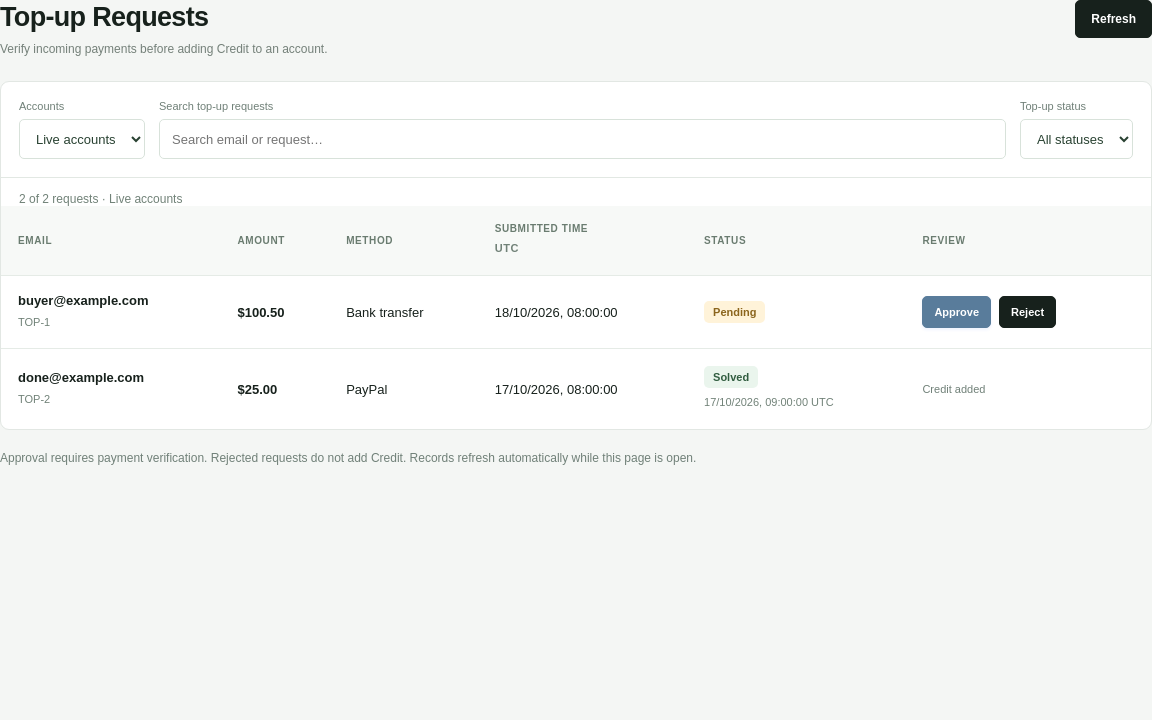
Test: ConsoleTopupsPage › lists live accounts and requires verified receipt before approving
Expected: the text "buyer@example.com" is shown, [18, 293, 148, 308]
Expected: the text "2 of 2 requests · Live accounts" is shown, [19, 192, 182, 206]
Click the button "Approve". click: (957, 312)
box: [922, 296, 991, 328]
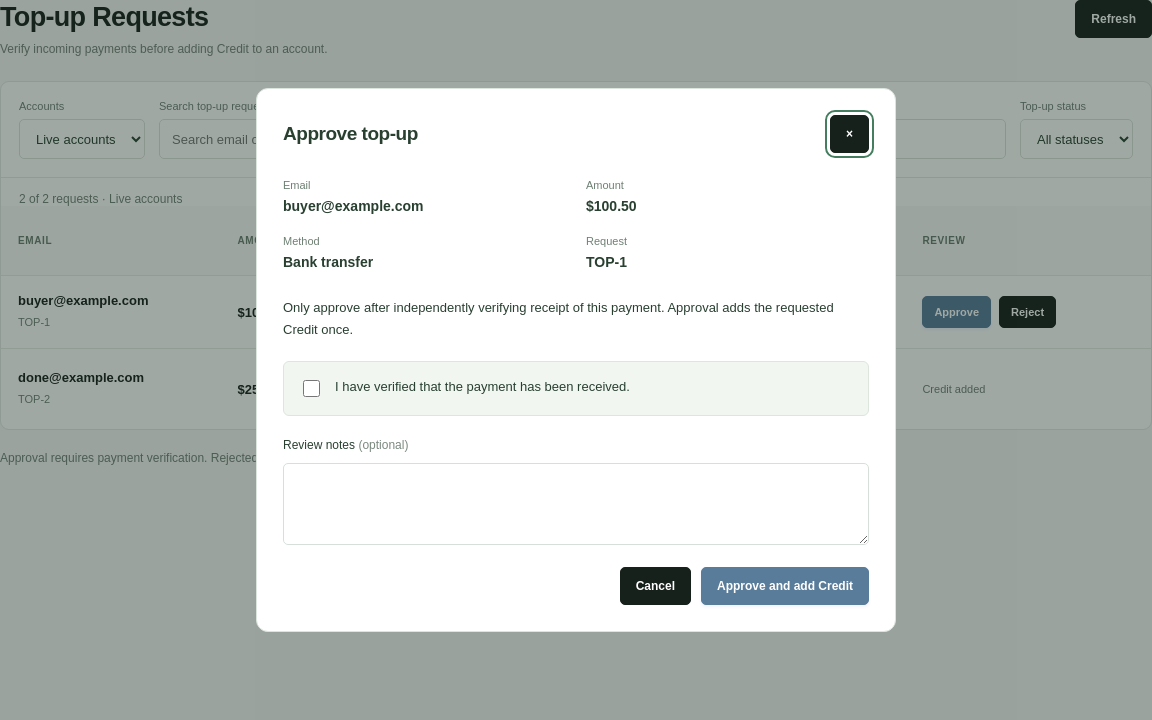
Expected: the heading "Approve top-up" is shown, [283, 123, 418, 145]
Submit the form, box [283, 361, 869, 605]
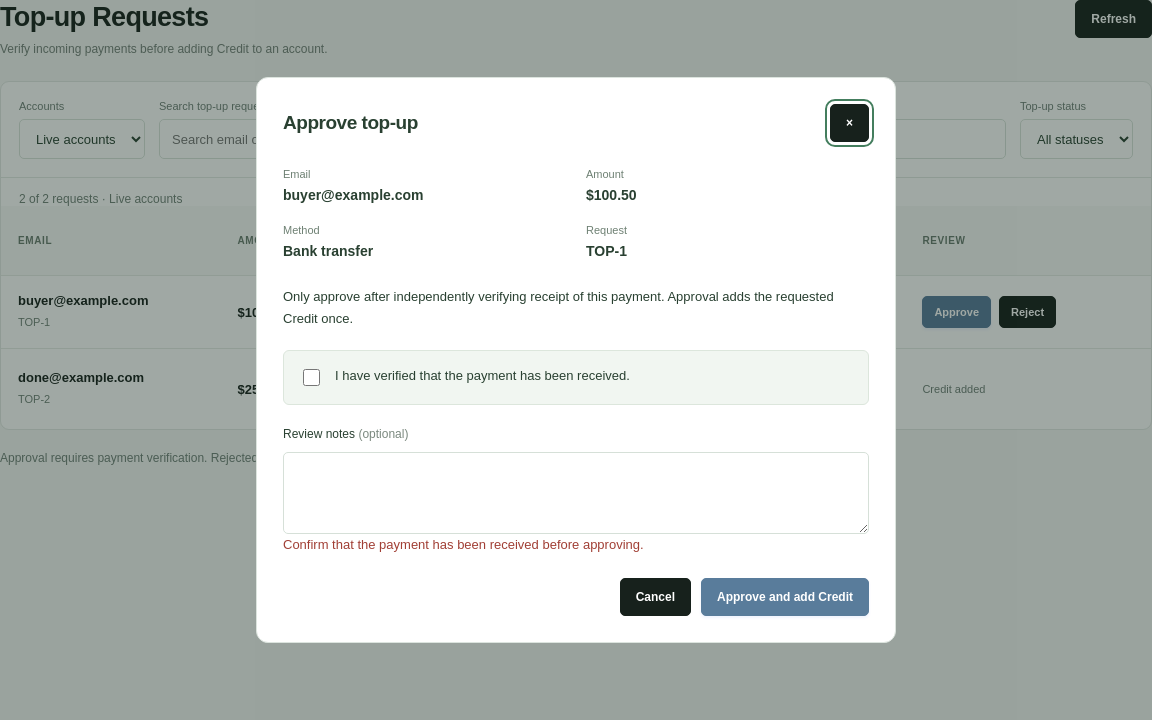
Expected: the text "Confirm that the payment has been received before approving." is shown, [283, 537, 644, 552]
